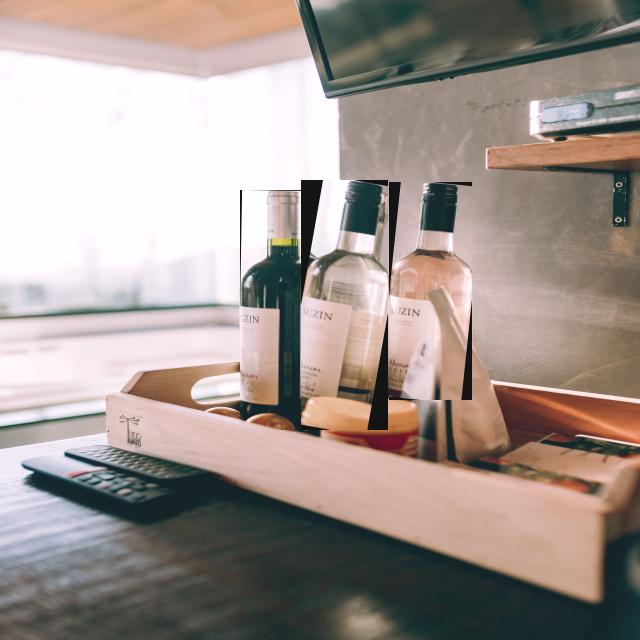Bottle: (301, 181, 388, 429), (390, 183, 472, 399), (240, 191, 305, 425)
